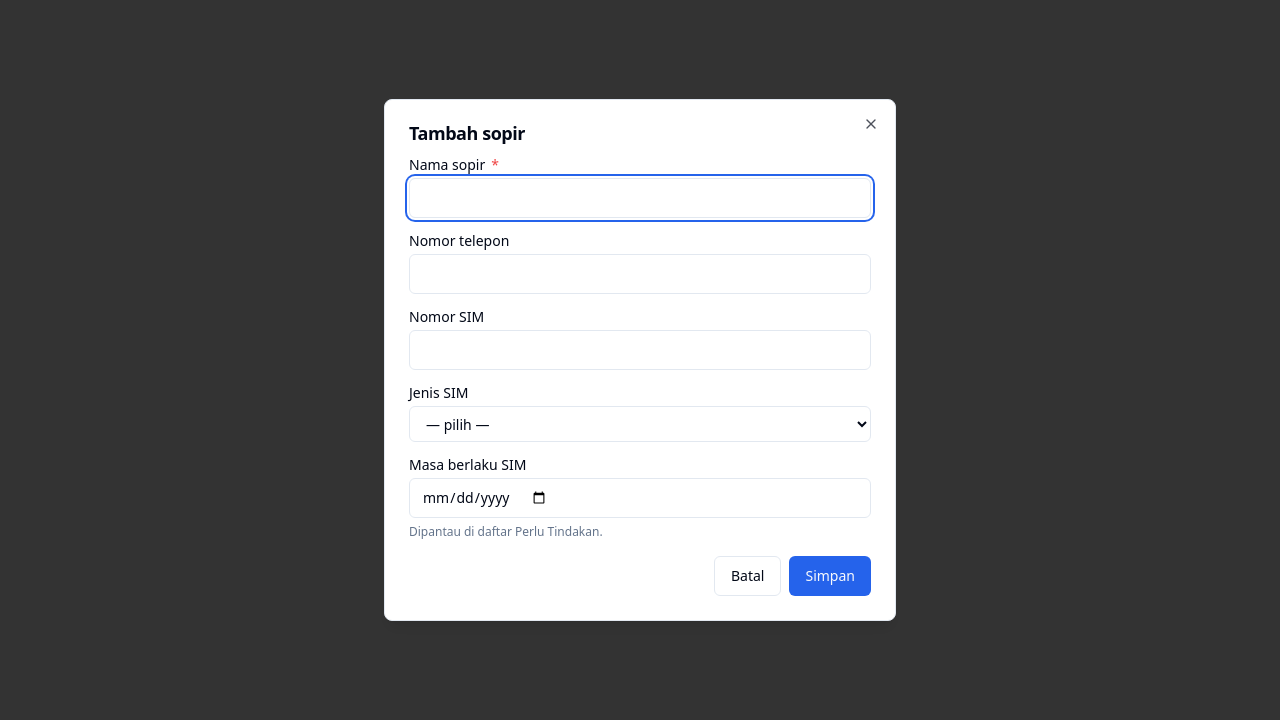
Test: DriverFormDialog › surfaces the backend error message
Step 1. Type "Budi" into the field labelled "Nama sopir *" → [640, 198], box [409,178,871,218]
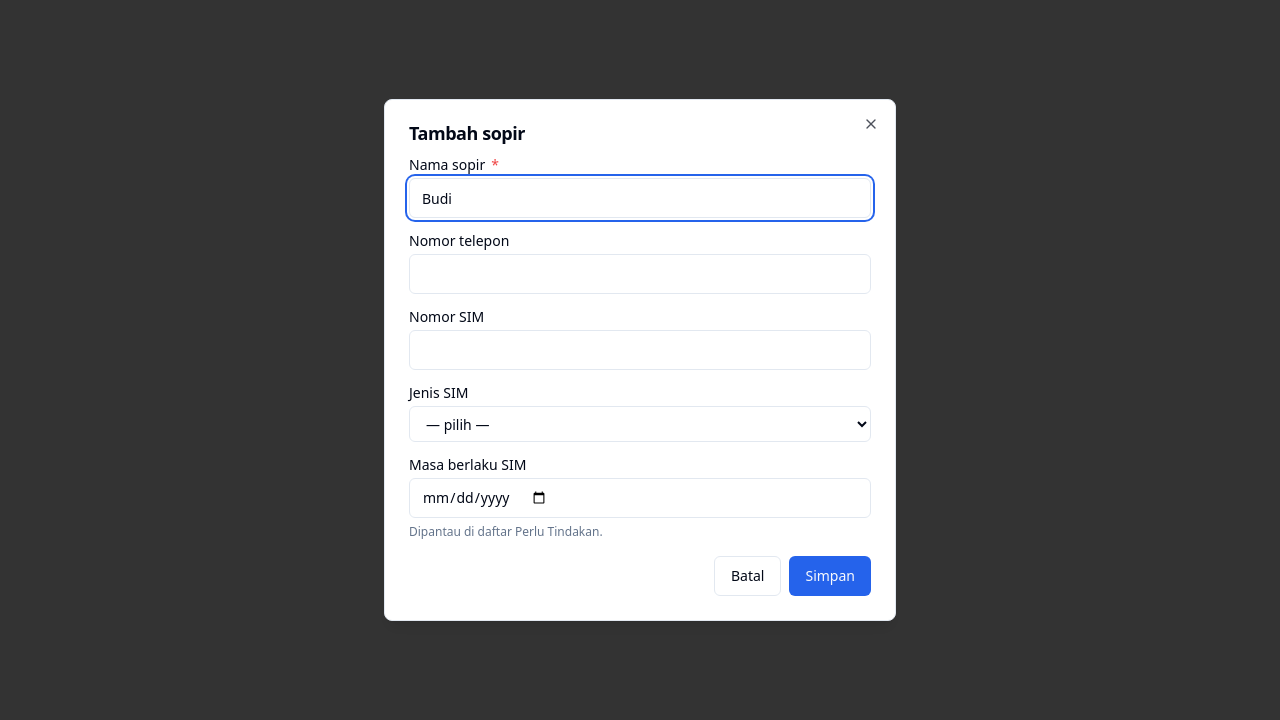
Step 2. Click the button "Simpan" → [830, 576], box [790,556,871,596]
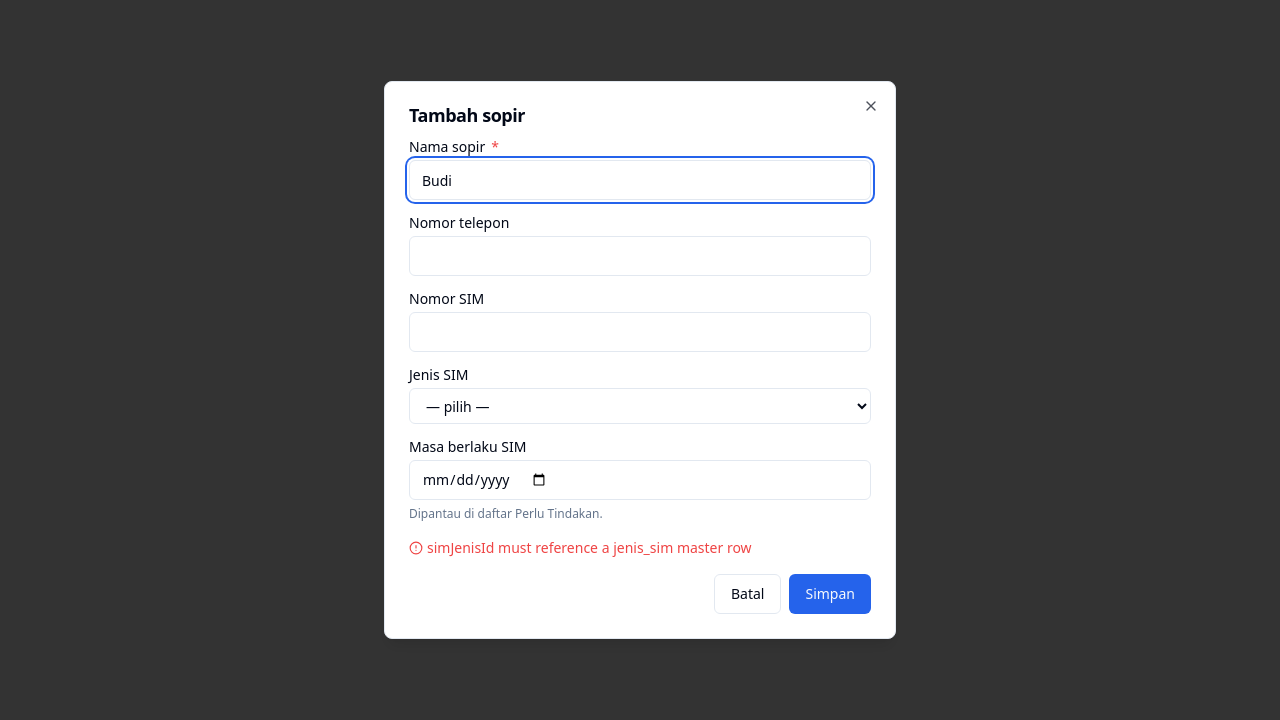
Now the text "simJenisId must reference a jenis_sim master row" is shown, box [409,538,752,557]
